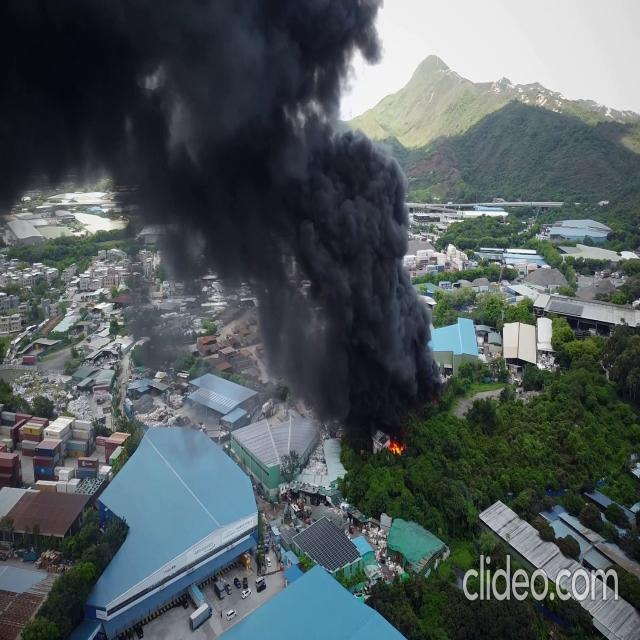Fire: (384, 438, 406, 460)
Smoke: (0, 0, 448, 393)
